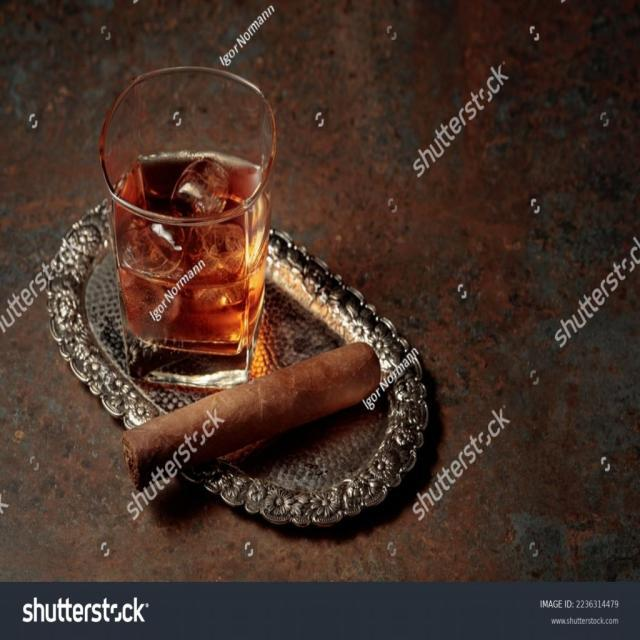smoking: (112, 332, 391, 493)
